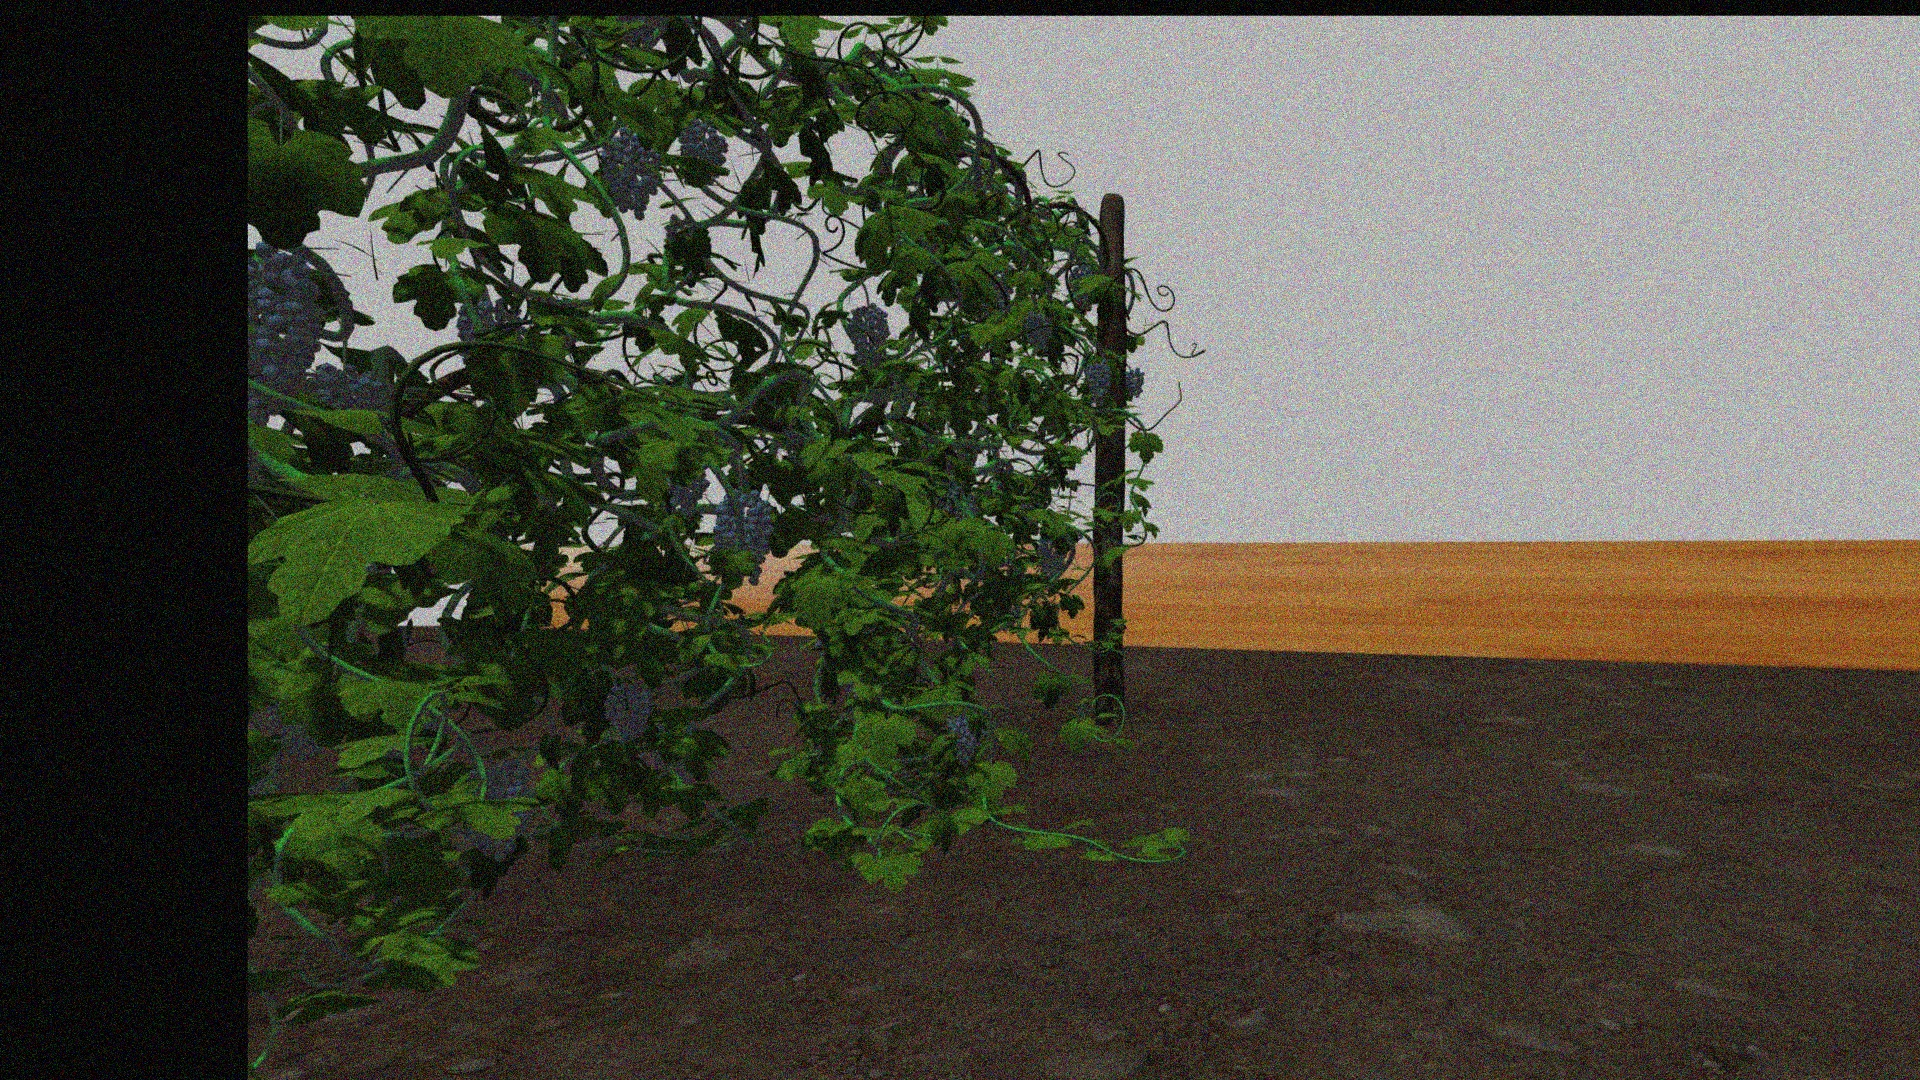grape: (251, 240, 326, 425), (460, 756, 537, 862), (709, 487, 773, 584), (599, 128, 661, 218), (307, 364, 378, 415), (603, 682, 651, 746), (676, 117, 727, 170), (851, 301, 889, 367), (943, 712, 975, 765), (1065, 262, 1095, 314), (1083, 357, 1112, 405), (1036, 541, 1065, 584), (1023, 309, 1052, 349), (1124, 367, 1143, 397)
